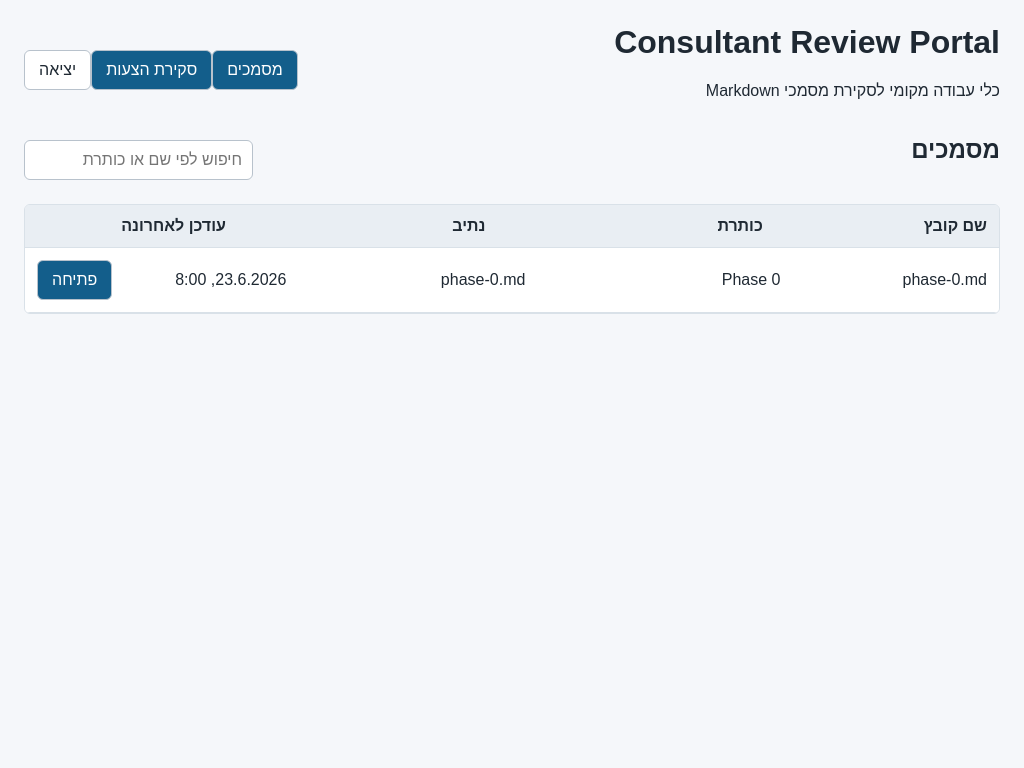
Test: App › switches to edit mode and cancels without saving
The width and height of the screenshot is (1024, 768).
Click the button "פתיחה". click: [75, 280]
box: left=37, top=260, right=112, bottom=300
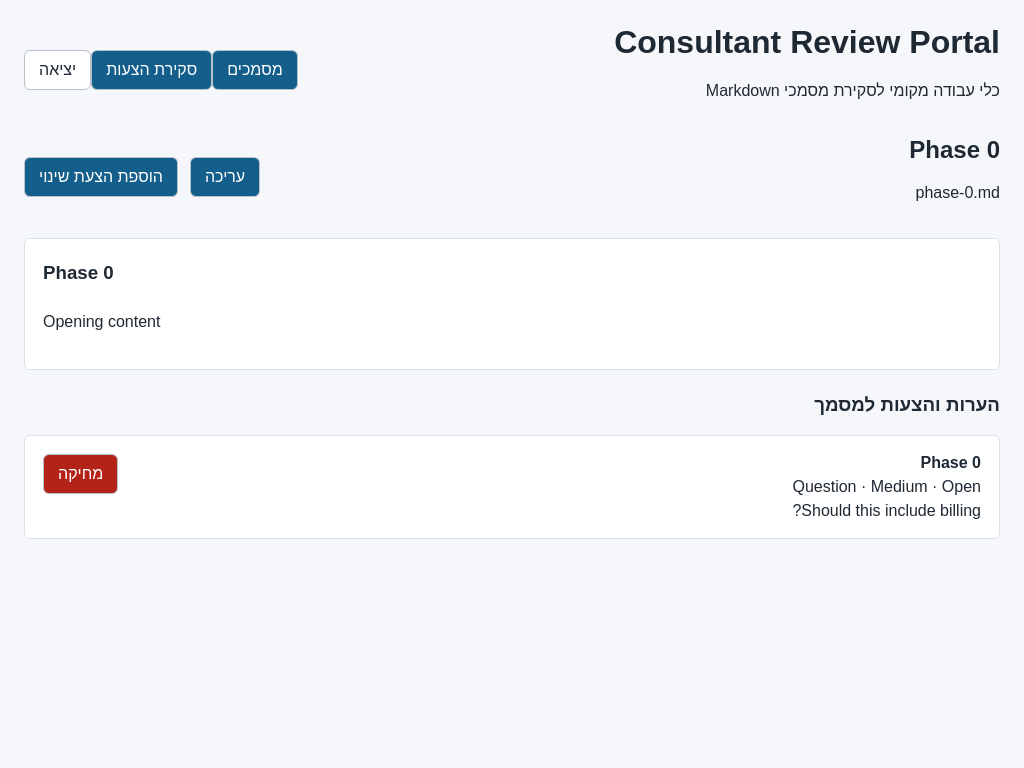
Click the button "עריכה". click: [225, 177]
box: left=190, top=157, right=260, bottom=197
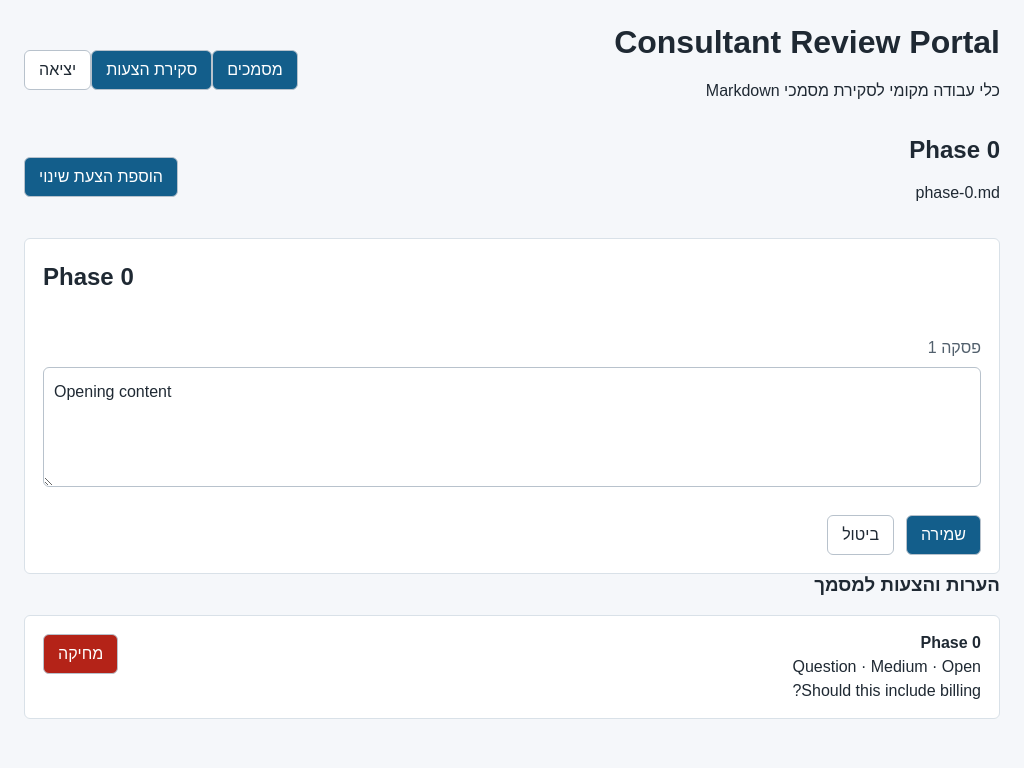
Replace the text in the text box labelled "פסקה 1" with "Changed paragraph". click: [512, 427]
box: left=43, top=367, right=981, bottom=487
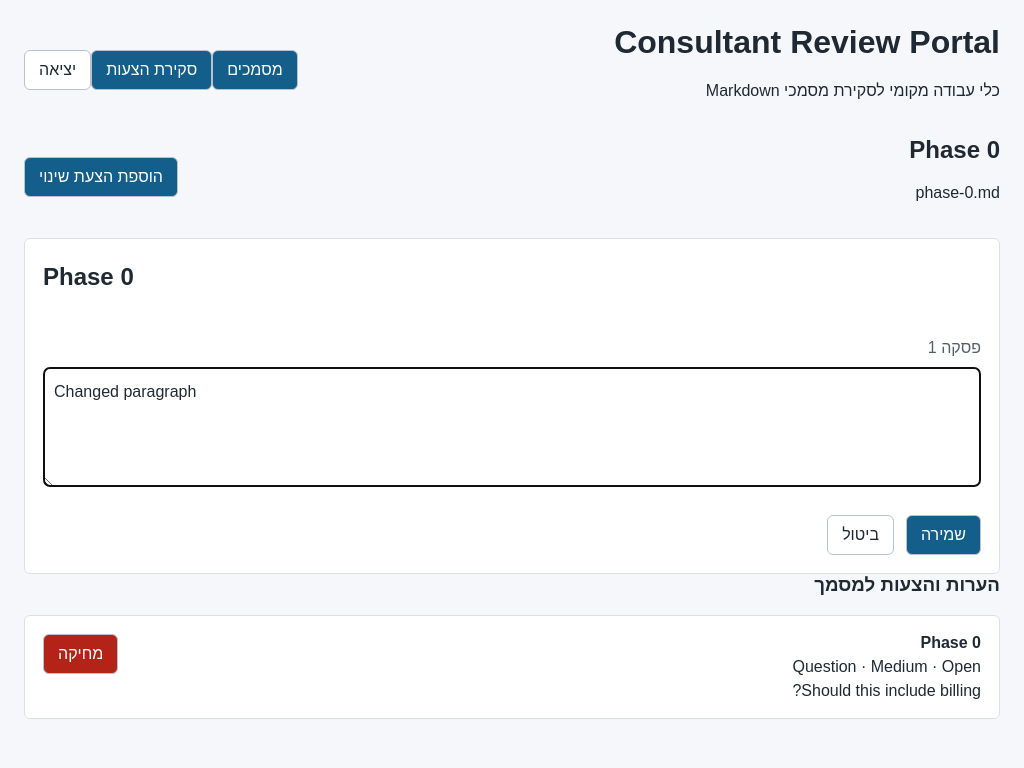
Click the button "ביטול". click: [860, 535]
box: left=827, top=515, right=894, bottom=555
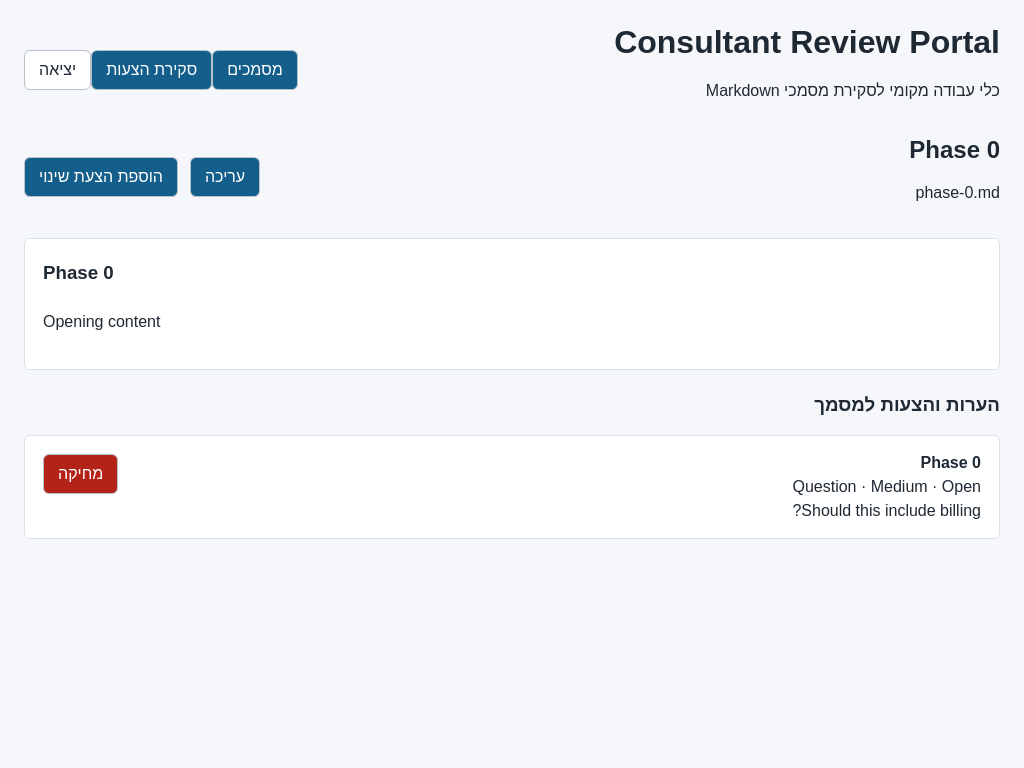
expect the label labelled "פסקה 1" is gone: met
